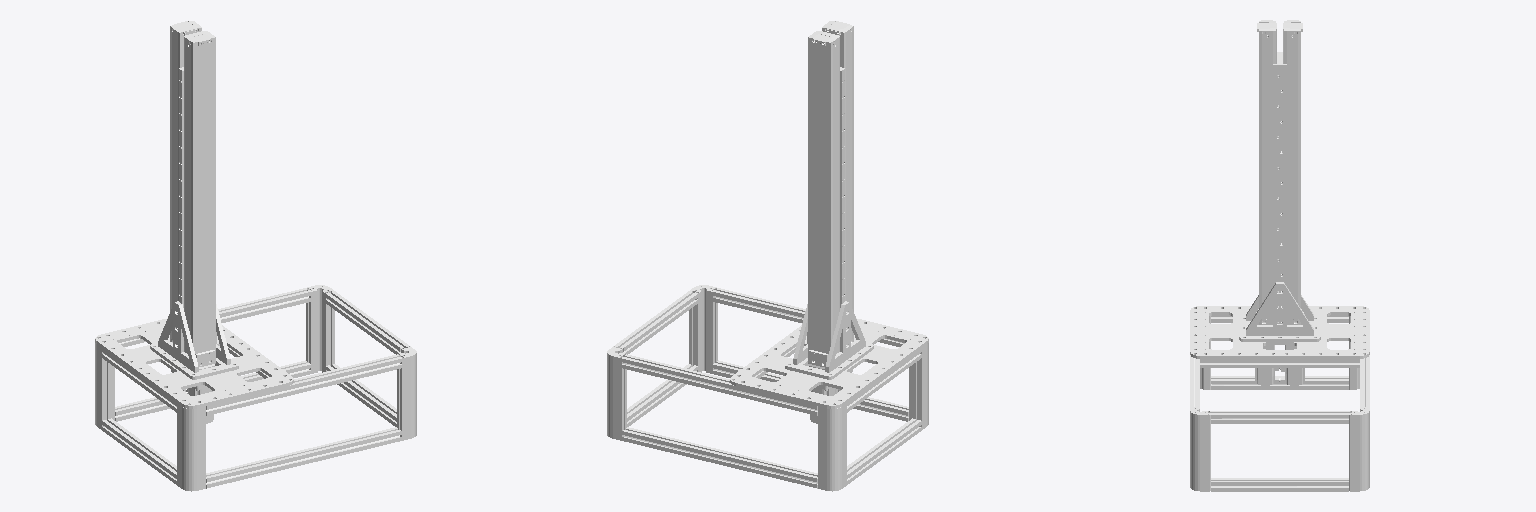
robot.urdf — slide_rail:
<?xml version="1.0"?>
<!-- Revolute-Revolute Manipulator -->
<robot name="slide_rail" xmlns:xacro="http://www.ros.org/wiki/xacro">

  <link
    name="base_link">
    <inertial>
      <origin
        xyz="-0.0851417739507414 -0.00235325608423029 0.461901876327646"
        rpy="0 0 0" />
      <mass
        value="13.2157378026818" />
      <inertia
        ixx="1.5723643860749"
        ixy="-0.0018400889955638"
        ixz="-0.0259807481556023"
        iyy="1.56653528372694"
        iyz="-0.0123413171800455"
        izz="0.0334677964955424" />
    </inertial>
    <visual>
      <origin
        xyz="0 0 0"
        rpy="0 0 0" />
      <geometry>
        <mesh
          filename="package://slide_rail/meshes/base_link.STL" />
      </geometry>
      <material
        name="">
        <color
          rgba="1 1 1 1" />
      </material>
    </visual>
    <collision>
      <origin
        xyz="0 0 0"
        rpy="0 0 0" />
      <geometry>
        <mesh
          filename="package://slide_rail/meshes/base_link.STL" />
      </geometry>
    </collision>
  </link>
  <link
    name="Arm_Base_R_Link">
    <inertial>
      <origin
        xyz="1.57200647357136E-05 0.022625966524659 -2.45861738434883E-06"
        rpy="0 0 0" />
      <mass
        value="0.0915148495066668" />
      <inertia
        ixx="8.99401518227245E-05"
        ixy="6.65500499430702E-09"
        ixz="-5.17853701338548E-09"
        iyy="0.000123418097290043"
        iyz="-1.04084246775258E-09"
        izz="3.58919292165612E-05" />
    </inertial>
    <visual>
      <origin
        xyz="0 0 0"
        rpy="0 0 0" />
      <geometry>
        <mesh
          filename="package://slide_rail/meshes/Arm_Base_R_Link.STL" />
      </geometry>
      <material
        name="">
        <color
          rgba="0.792156862745098 0.819607843137255 0.933333333333333 1" />
      </material>
    </visual>
    <collision>
      <origin
        xyz="0 0 0"
        rpy="0 0 0" />
      <geometry>
        <mesh
          filename="package://slide_rail/meshes/Arm_Base_R_Link.STL" />
      </geometry>
    </collision>
  </link>
  <joint
    name="slide_R"
    type="prismatic">
    <origin
      xyz="-0.08 -0.0925 0.88886"
      rpy="-7.1169E-16 5.5825E-15 3.3307E-16" />
    <parent
      link="base_link" />
    <child
      link="Arm_Base_R_Link" />
    <axis
      xyz="0 0 1" />
    <limit
      effort="0"
      velocity="0" />
  </joint>
  <link
    name="Arm_Base_L_Link">
    <inertial>
      <origin
        xyz="-1.57200647414868E-05 -0.022625966524659 -2.45861739034403E-06"
        rpy="0 0 0" />
      <mass
        value="0.0915148495066669" />
      <inertia
        ixx="8.99401518227246E-05"
        ixy="6.655004994278E-09"
        ixz="5.1785370134074E-09"
        iyy="0.000123418097290043"
        iyz="1.04084246778742E-09"
        izz="3.58919292165613E-05" />
    </inertial>
    <visual>
      <origin
        xyz="0 0 0"
        rpy="0 0 0" />
      <geometry>
        <mesh
          filename="package://slide_rail/meshes/Arm_Base_L_Link.STL" />
      </geometry>
      <material
        name="">
        <color
          rgba="0.792156862745098 0.819607843137255 0.933333333333333 1" />
      </material>
    </visual>
    <collision>
      <origin
        xyz="0 0 0"
        rpy="0 0 0" />
      <geometry>
        <mesh
          filename="package://slide_rail/meshes/Arm_Base_L_Link.STL" />
      </geometry>
    </collision>
  </link>
  <joint
    name="slide_L"
    type="prismatic">
    <origin
      xyz="-0.08 0.0925 0.88886"
      rpy="7.8352E-17 -1.301E-16 -3.8305E-16" />
    <parent
      link="base_link" />
    <child
      link="Arm_Base_L_Link" />
    <axis
      xyz="0 0 1" />
    <limit
      effort="0"
      velocity="0" />
  </joint>
</robot>

--- What the picture shows (computed from the rendered views, not written in the file) ---
Views: 3 orthographic renders of the robot side by side, from view 1: azimuth 30°, elevation 25°; view 2: azimuth 150°, elevation 25°; view 3: azimuth 270°, elevation 25°.
Model slide_rail with 3 links and 2 joints (2 prismatic), rooted at base_link, posed every joint at zero.
Visible links, largest first — view 1: base_link; view 2: base_link; view 3: base_link.
Boxes of the visible links, x1,y1,x2,y2 form: base_link: (95,21,416,491); base_link: (607,21,928,491); base_link: (1190,20,1369,491).
Bounding box of the posed robot: 0.74 × 0.53 × 1.25 m (x, y, z).
Meshes: 3 distinct files referenced, 1 mesh visuals loaded (1 binary STL); not drawn: 2 (reference not matched to a file when rendering).